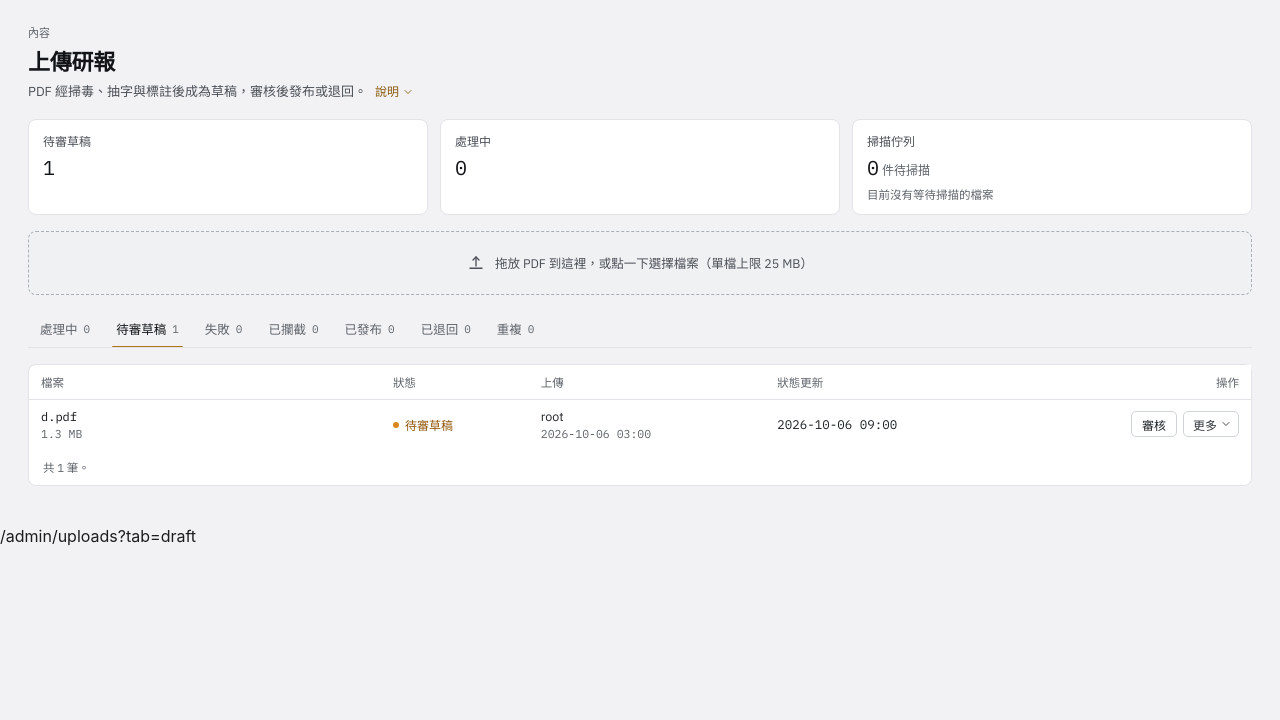
it: 從列退回：原因必填，送出後跳 toast
Click the button with aria-label "d.pdf 的更多操作" at (1211, 424), box left=1183, top=411, right=1239, bottom=437
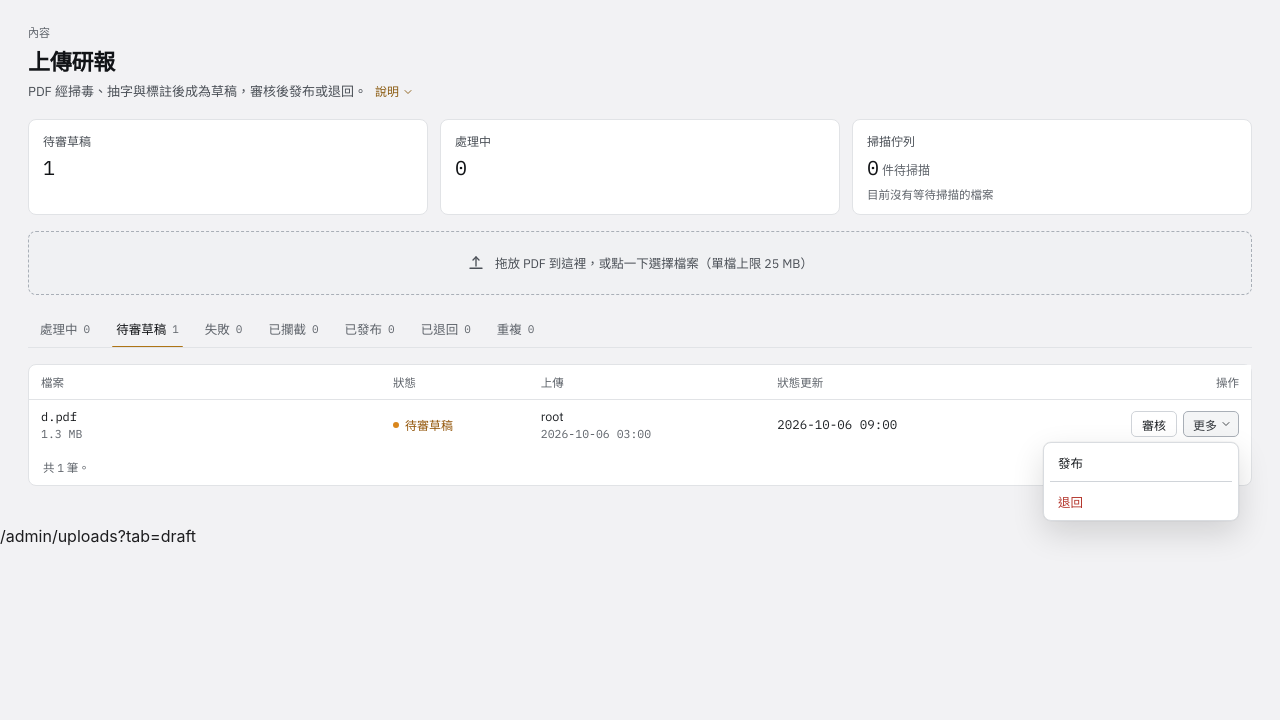
Click the menu item "退回" at (1141, 501), box left=1048, top=486, right=1234, bottom=516
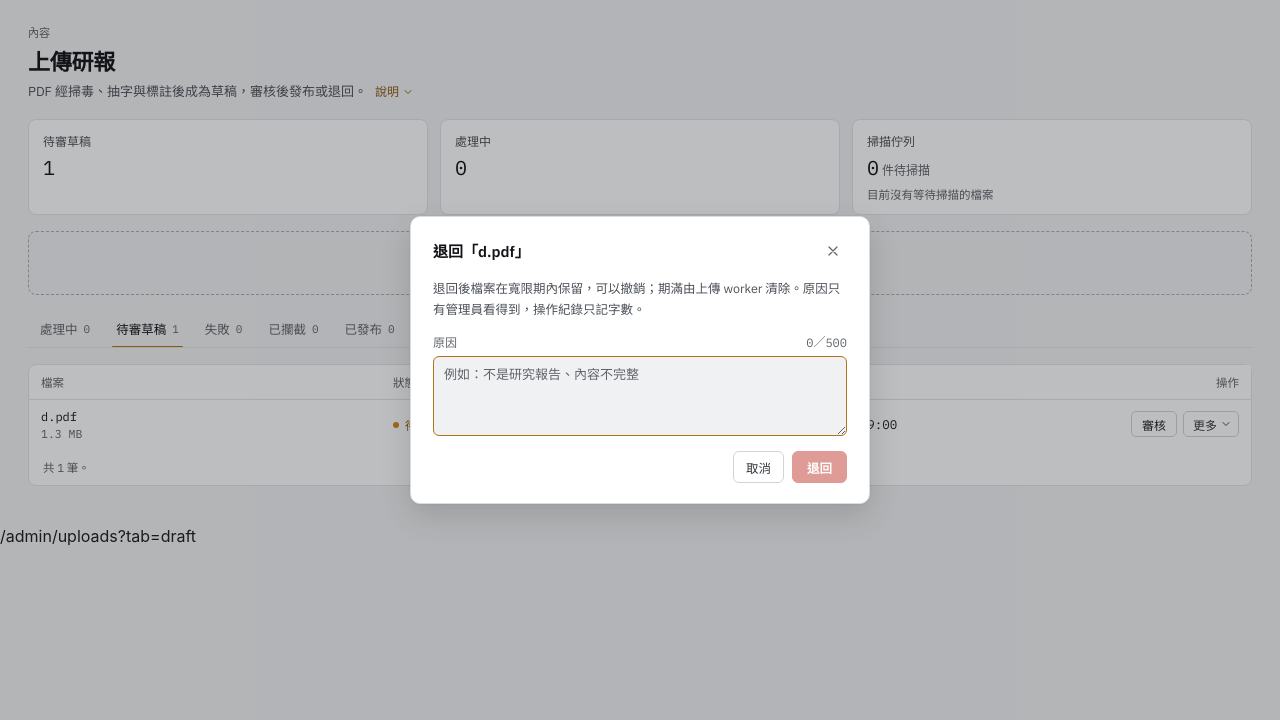
Expected: the button "退回" is disabled, left=792, top=451, right=847, bottom=483
Type " 不是研究報告 " into the text box at (640, 396), box left=433, top=356, right=847, bottom=436
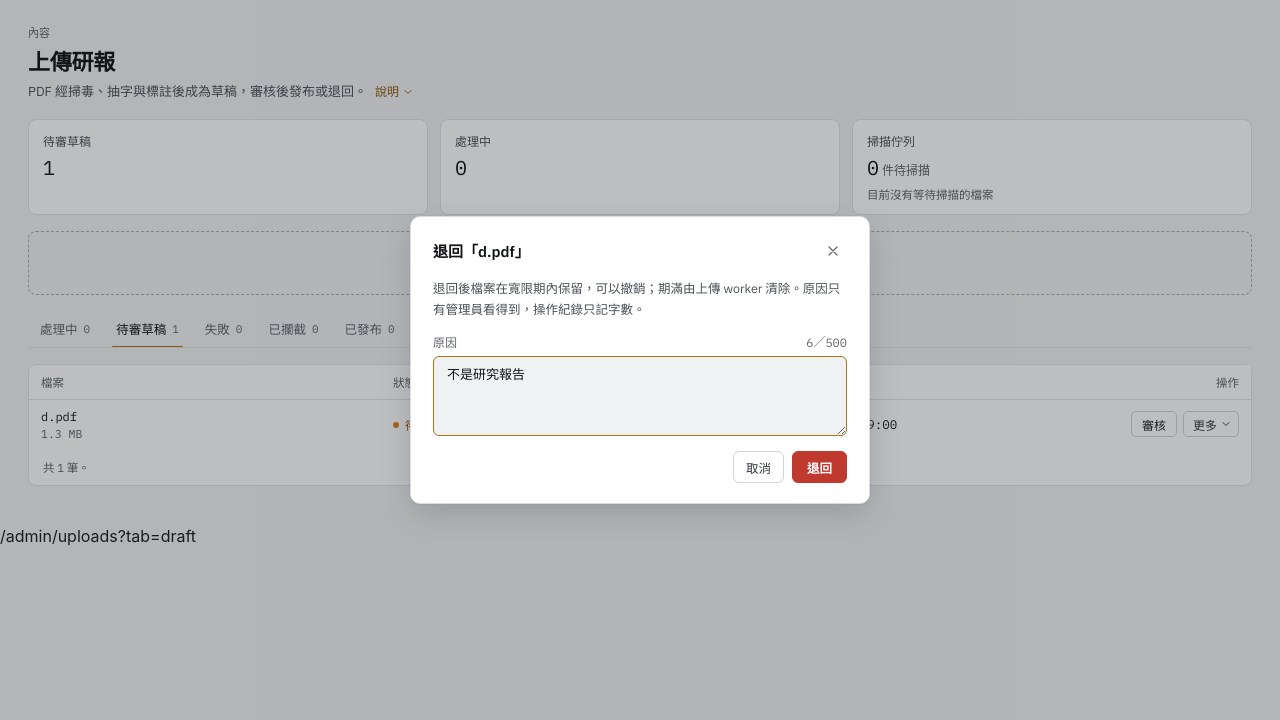
Click the button "退回" at (820, 467), box left=792, top=451, right=847, bottom=483
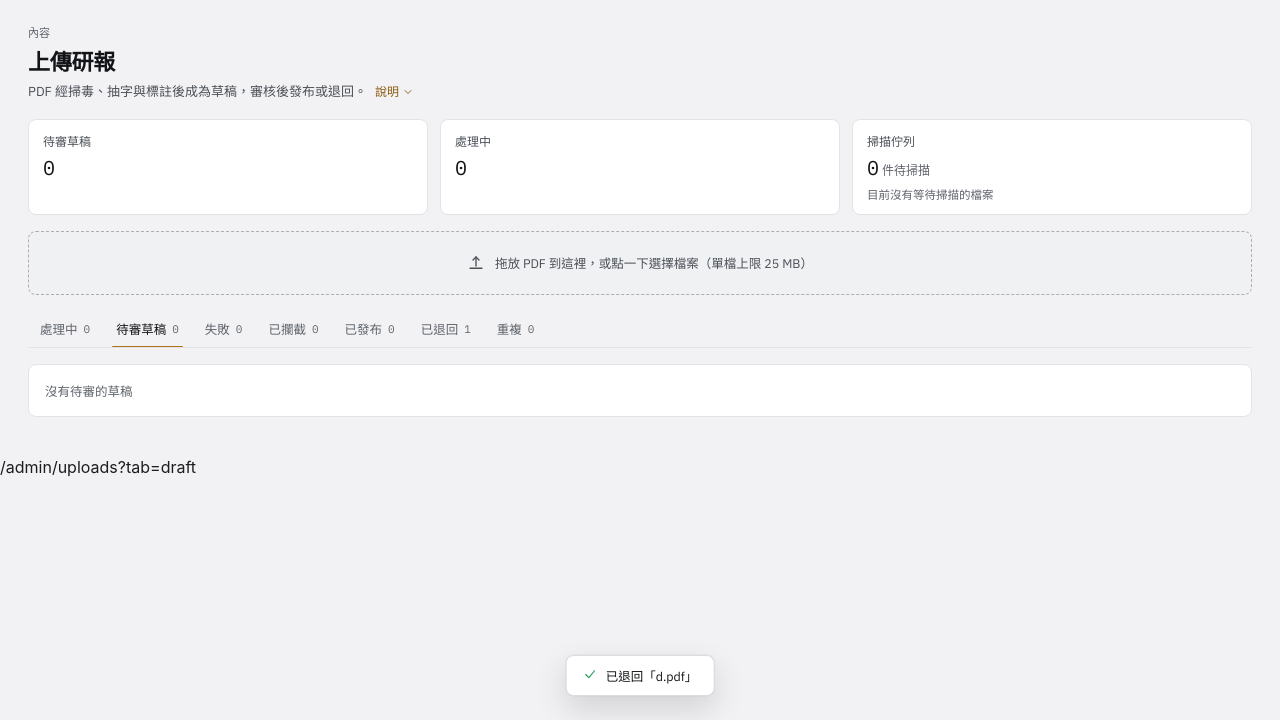
Expected: the text "已退回「d.pdf」" is shown, left=566, top=655, right=714, bottom=696
